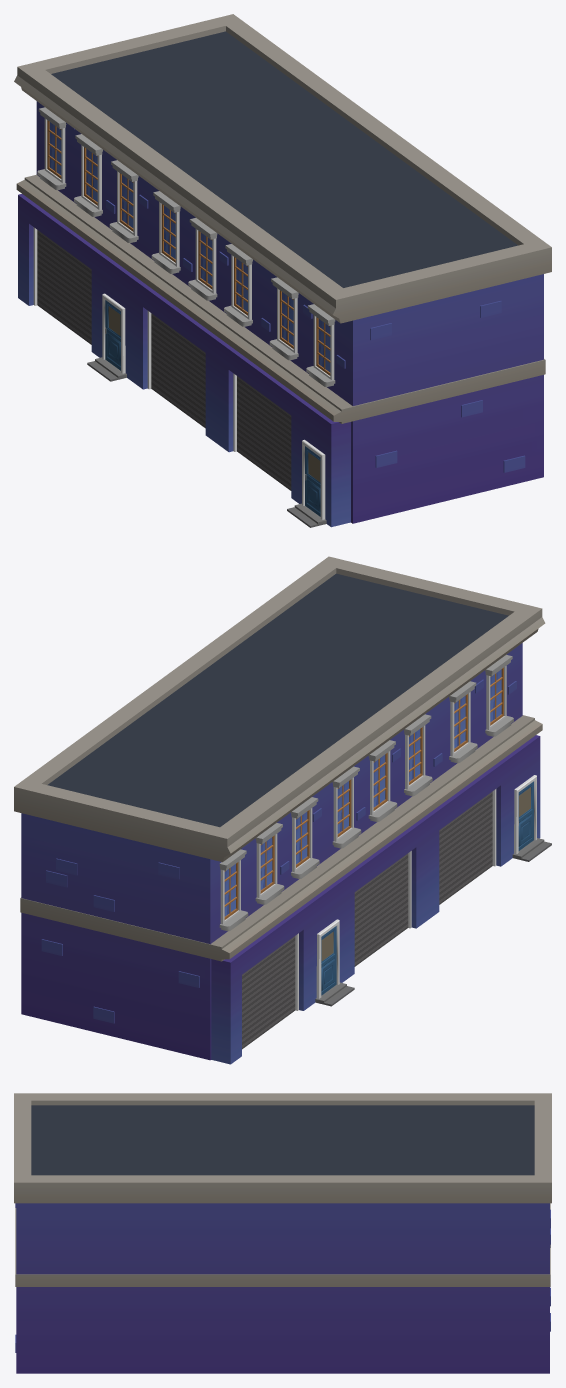
Rendered from Building_20_3_C.fbx.
3 renders of one model, top to bottom at view 1: azimuth 30°, elevation 25°; view 2: azimuth 150°, elevation 25°; view 3: azimuth 270°, elevation 25°, orthographic. The views are drawn at different scales.
Parts seen in each view (by area): view 1: Building_20_3_C; view 2: Building_20_3_C; view 3: Building_20_3_C.
Part boxes in pixels (bbox=[...]): Building_20_3_C: bbox=[14, 14, 551, 527]; Building_20_3_C: bbox=[14, 556, 551, 1064]; Building_20_3_C: bbox=[14, 1093, 551, 1373].
Bounding box in the file's own units: 774 × 726 × 1827.
